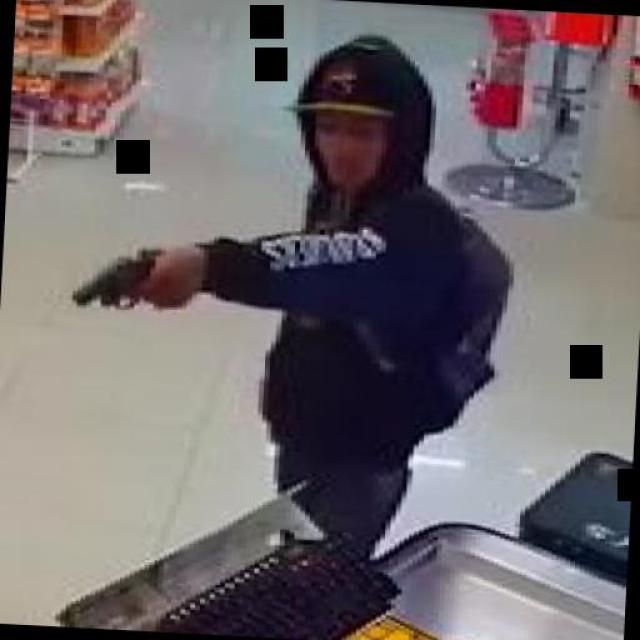gun: (62, 239, 190, 311)
